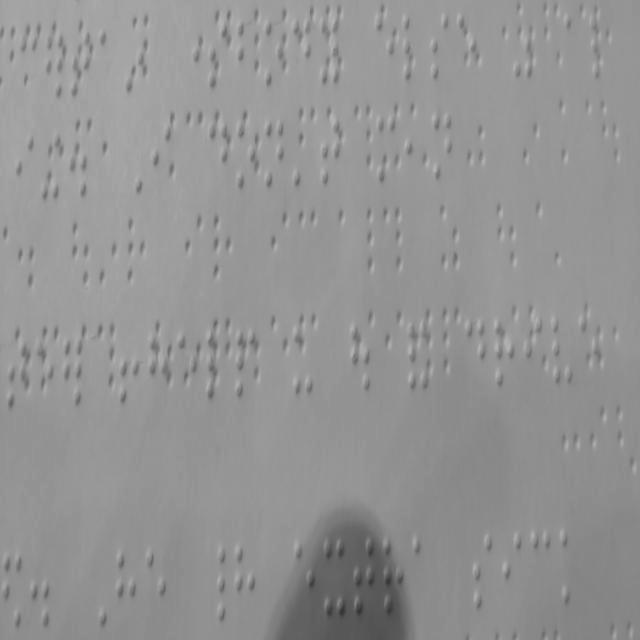braiile: (289, 534, 318, 630), (203, 315, 230, 412), (232, 536, 259, 632), (549, 304, 577, 396), (114, 539, 140, 632), (411, 526, 436, 622), (173, 322, 200, 410), (144, 541, 169, 635), (350, 528, 375, 622), (146, 324, 170, 421), (558, 520, 582, 616), (204, 116, 230, 204), (369, 5, 396, 89), (501, 523, 524, 619), (528, 526, 554, 610), (381, 534, 406, 621), (316, 11, 342, 94), (233, 319, 256, 410), (400, 8, 426, 88), (290, 320, 314, 406), (578, 306, 600, 398), (456, 6, 480, 90), (470, 530, 494, 614), (318, 111, 342, 194), (520, 308, 544, 391), (150, 118, 173, 204), (233, 116, 257, 198), (7, 329, 30, 414), (493, 308, 516, 393), (462, 314, 487, 392), (324, 536, 346, 624), (12, 128, 36, 208), (262, 114, 284, 199), (431, 104, 452, 190), (428, 8, 451, 85), (70, 24, 92, 104), (96, 22, 118, 102), (562, 9, 586, 82), (34, 329, 55, 412), (588, 8, 612, 80), (234, 12, 256, 88), (290, 14, 312, 90), (374, 111, 396, 187), (208, 15, 230, 90), (262, 13, 284, 87), (18, 28, 36, 108)
